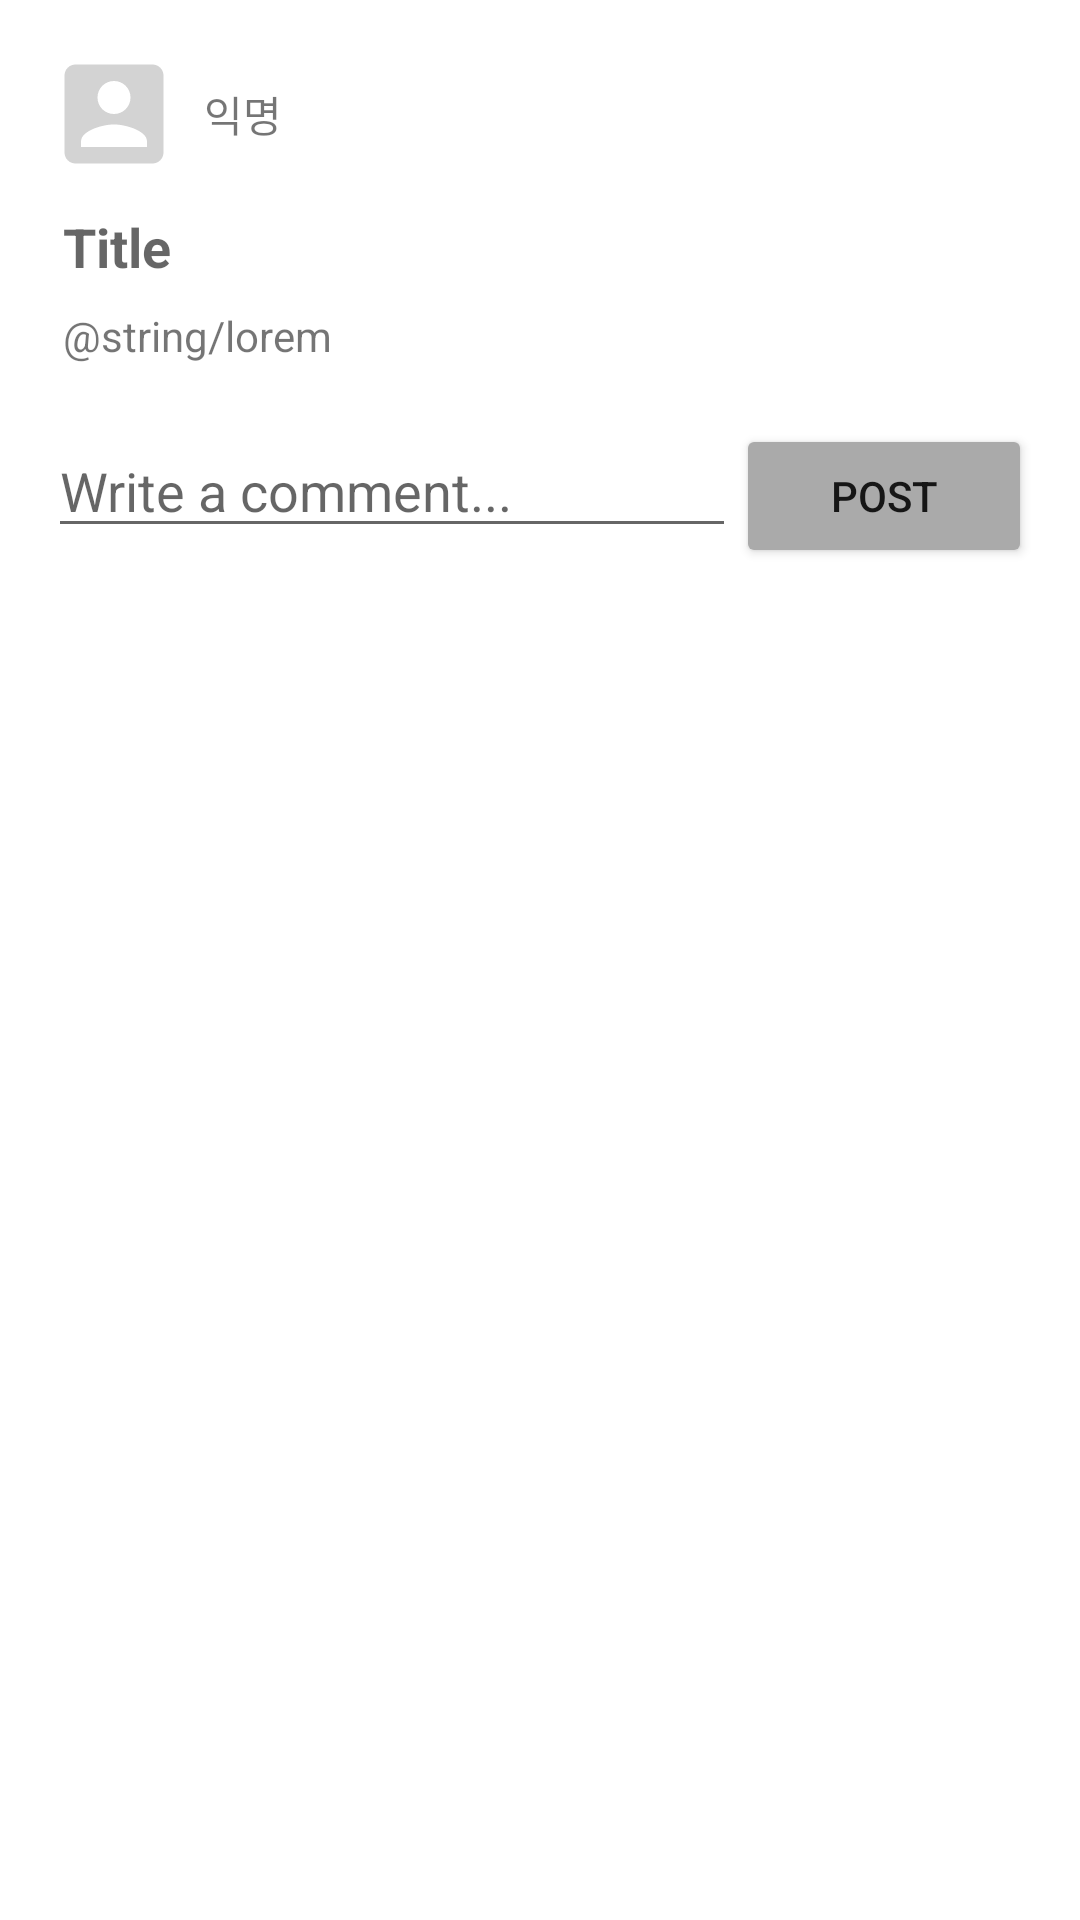

Where icons sit on this 1080px×1920px app screen, as [x1,y1,x2,y2]:
account box: [65,65,163,163]
